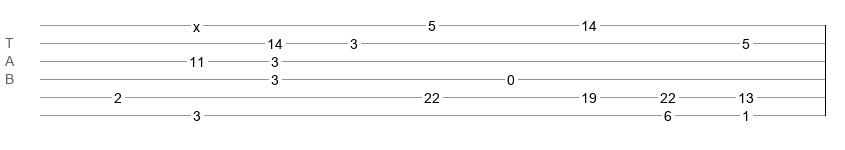0: (507, 72, 515, 82)
1: (742, 108, 750, 118)
11: (189, 54, 205, 64)
13: (738, 90, 754, 100)
14: (267, 36, 283, 46), (581, 18, 597, 28)
19: (581, 90, 597, 100)
2: (114, 90, 122, 100)
22: (424, 90, 440, 100), (660, 90, 676, 100)
3: (193, 108, 201, 118), (271, 54, 279, 64), (271, 72, 279, 82), (350, 36, 358, 46)
5: (428, 18, 436, 28), (742, 36, 750, 46)
6: (664, 108, 672, 118)
x: (193, 19, 200, 27)
